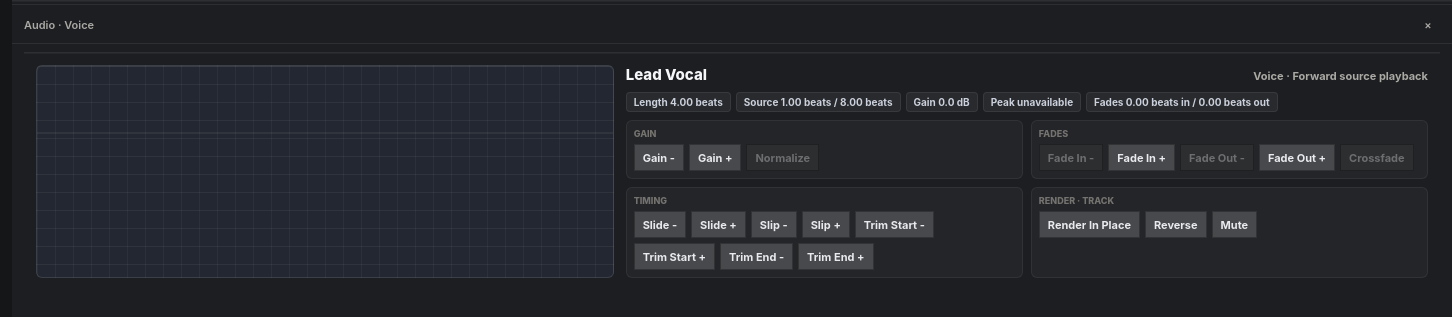
Scenario: AudioClipEditorPanel render errors › shows an inline render error when rendered audio analysis is incomplete
Click the button "Render In Place" at (1089, 224), box [1039,211,1140,238]
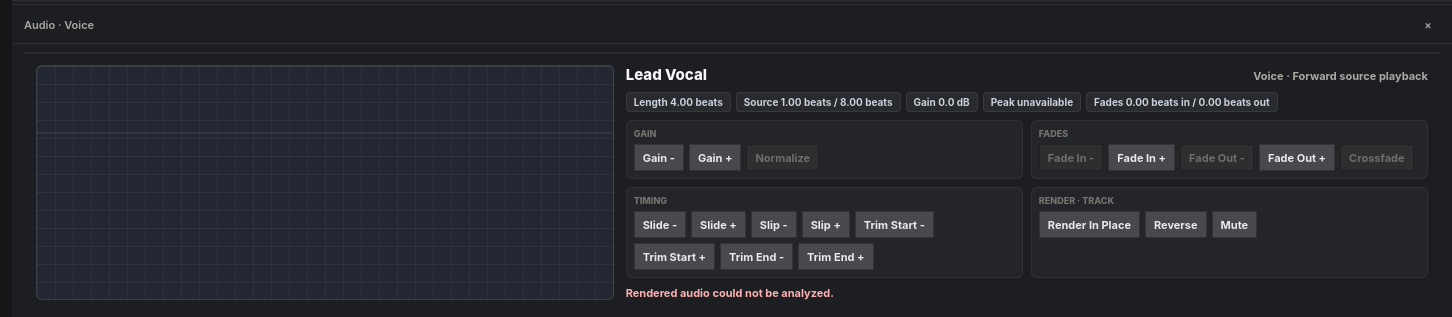
expect the text "Rendered audio could not be analyzed." is shown: met, box [626,286,834,300]
